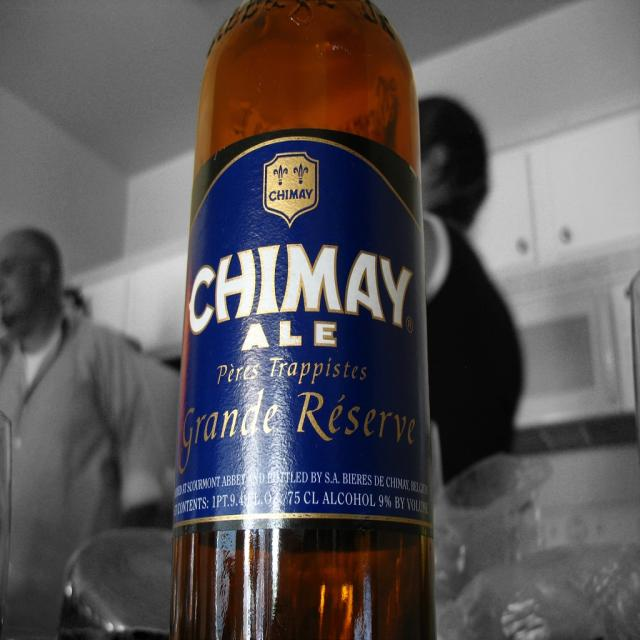chimay: (172, 137, 434, 530)
